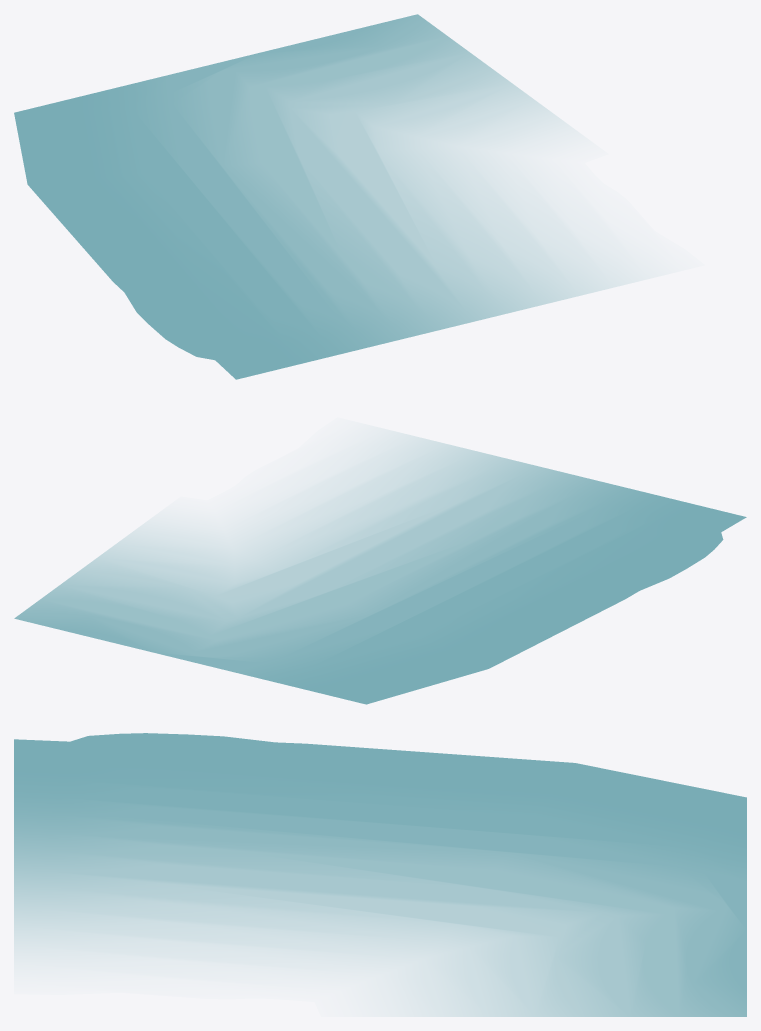
3 views of the same model, one above another, from view 1: azimuth 30°, elevation 25°; view 2: azimuth 150°, elevation 25°; view 3: azimuth 270°, elevation 25° (orthographic). The views are drawn at different scales.
Parts seen in each view (by area): view 1: city; view 2: city; view 3: city.
Part boxes in pixels (x1=…): city: x1=14, y1=14, x2=636, y2=379; city: x1=14, y1=432, x2=746, y2=704; city: x1=14, y1=733, x2=746, y2=1016.
Size of the model in its own units: 458 by 0 by 500.
